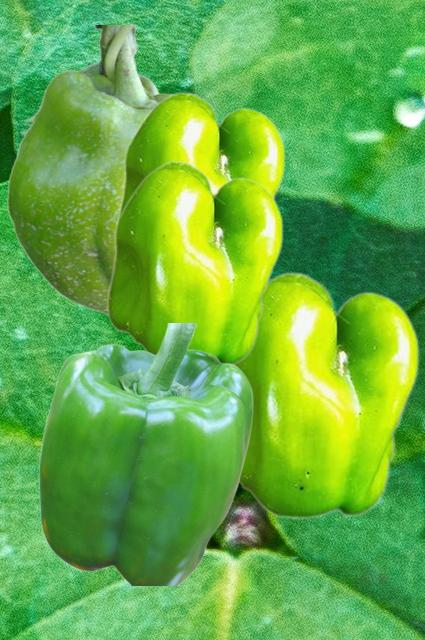bell_pepper: (38, 323, 252, 584), (6, 25, 172, 315), (238, 271, 418, 518), (106, 160, 282, 364), (116, 91, 284, 215)
